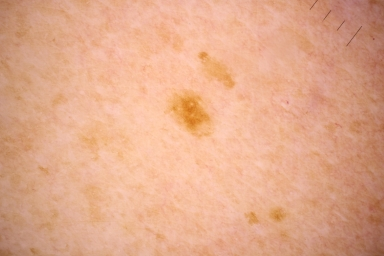nevus: (174, 96, 215, 137)
